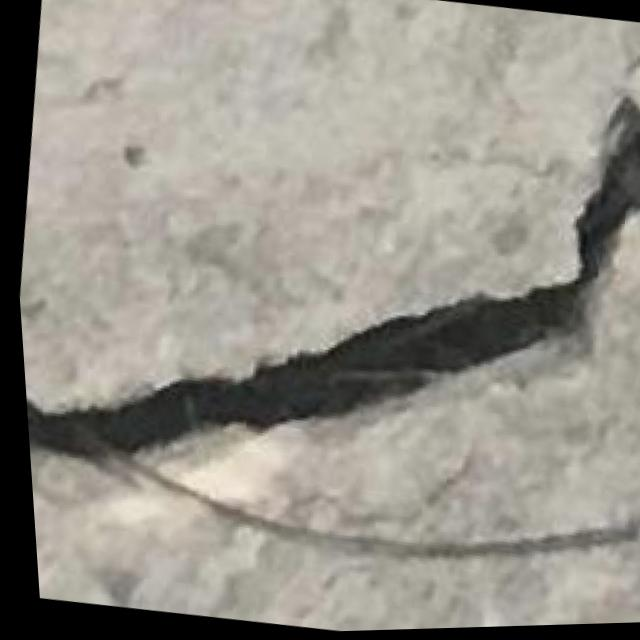Crack: (3, 43, 640, 559)
